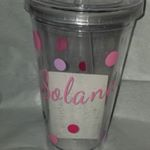cups: (20, 1, 147, 150)
